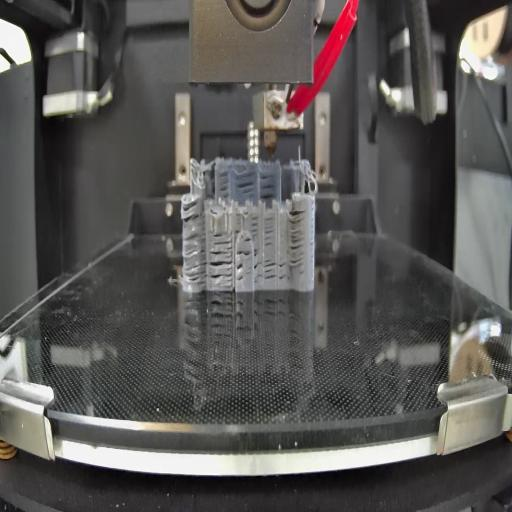cracks: (182, 232, 207, 282), (289, 207, 307, 268), (210, 250, 234, 290), (181, 198, 204, 225), (263, 257, 288, 280), (259, 172, 277, 200), (238, 170, 256, 197), (264, 216, 275, 248), (219, 174, 231, 198), (214, 230, 232, 245), (254, 246, 260, 288), (236, 262, 244, 282), (252, 216, 260, 234), (236, 248, 251, 257), (236, 210, 242, 232), (242, 235, 252, 243)
